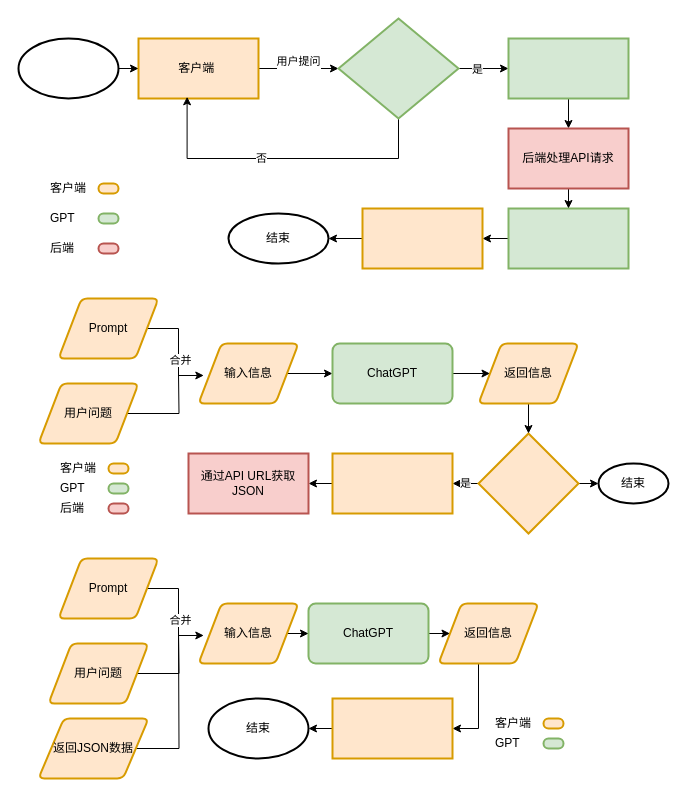
This 686x796 diagram has some shape labels left out. Here are the shapes that lost their labels. From the top down, the centre of each, then its label:
the point at 68,68: 开始
the point at 398,68: 问题是否符合API
the point at 568,68: 选择对应API获取数据
the point at 422,238: 客户端显示回答
the point at 568,238: 根据问题及后端返回数据生成回答内容
the point at 392,483: 返回字符转换为正式API URL
the point at 528,483: 是否为预设内容
the point at 392,728: 将信息同步入对话框
